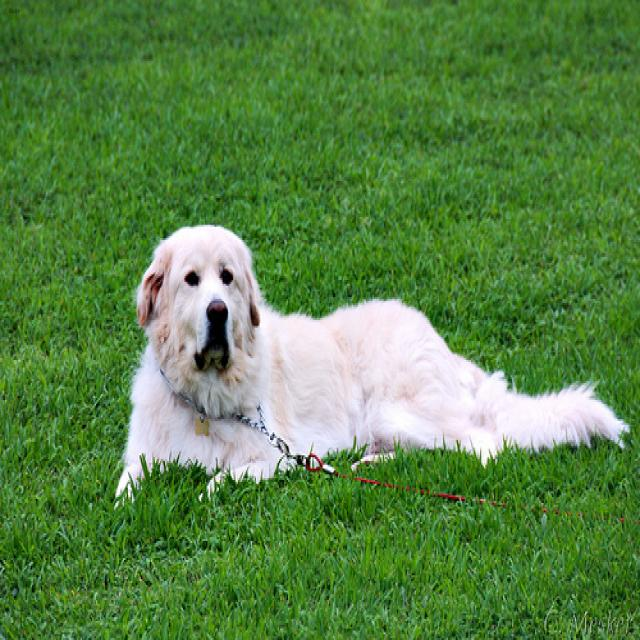dog-great_pyrenees: (108, 219, 635, 514)
